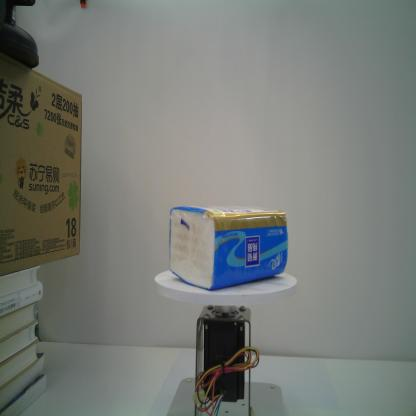Tissue: (168, 206, 289, 289)
